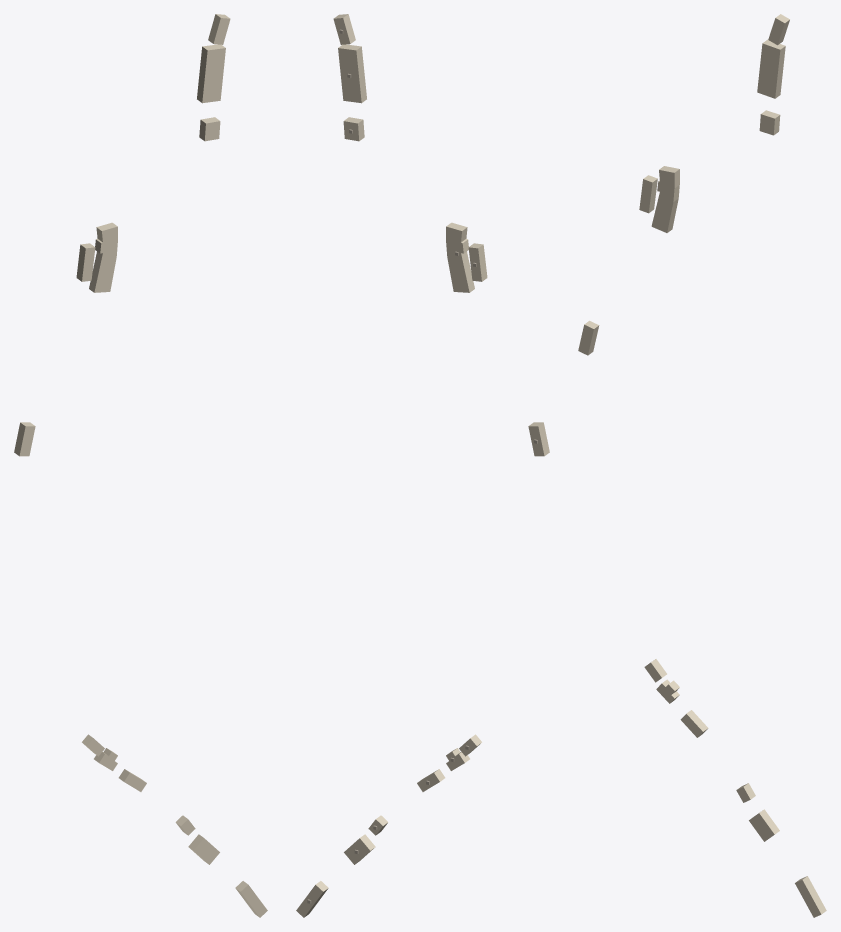
Rendered from historic-palestine-09_24_3508_3187.glb.
3 renders of one model, left to right at view 1: azimuth 30°, elevation 25°; view 2: azimuth 150°, elevation 25°; view 3: azimuth 330°, elevation 25°, orthographic. The views are drawn at different scales.
Parts seen in each view (by area): view 1: Building_.003, Building_.001, Building_.004, Building_.005; view 2: Building_.003, Building_.001, Building_.004, Building_.005; view 3: Building_.003, Building_.001, Building_.011, Building_.004, Building_.006.
Boxes of the visible parts, x1=… form: Building_.003: x1=89, y1=222, x2=117, y2=292; Building_.001: x1=197, y1=44, x2=225, y2=103; Building_.004: x1=76, y1=243, x2=95, y2=281; Building_.005: x1=14, y1=422, x2=35, y2=456; Building_.003: x1=446, y1=222, x2=474, y2=292; Building_.001: x1=338, y1=44, x2=366, y2=103; Building_.004: x1=468, y1=243, x2=487, y2=281; Building_.005: x1=528, y1=422, x2=549, y2=456; Building_.003: x1=651, y1=166, x2=679, y2=232; Building_.001: x1=757, y1=39, x2=785, y2=98; Building_.011: x1=795, y1=876, x2=826, y2=917; Building_.004: x1=639, y1=175, x2=657, y2=213; Building_.006: x1=749, y1=809, x2=779, y2=841.
Bounding box in the file's own units: 198 × 692 × 8.7.
